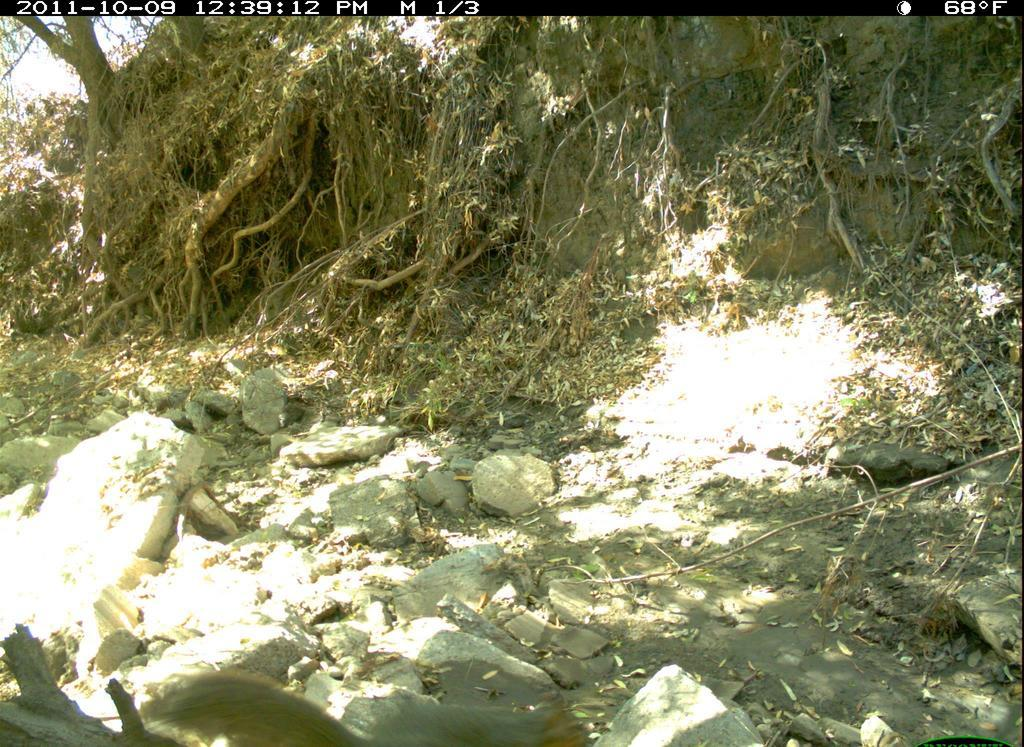squirrel: (136, 655, 594, 747)
